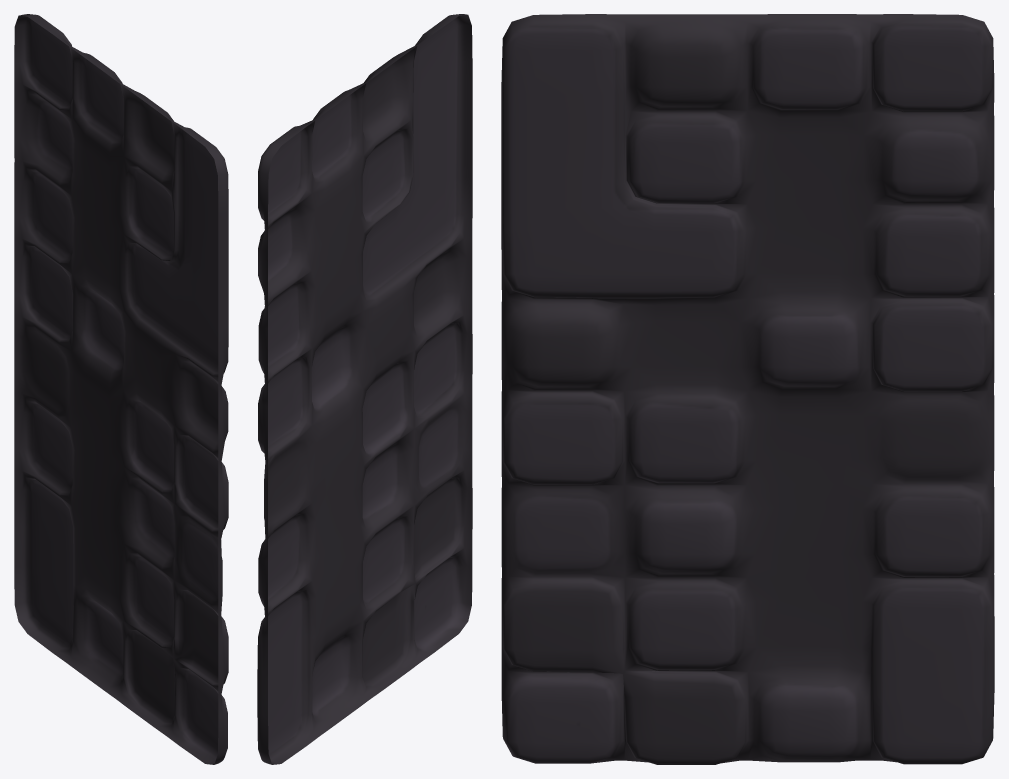
Rendered from Pumpkin_wall_2.fbx.
3 views of the same model, side by side, from view 1: azimuth 30°, elevation 25°; view 2: azimuth 150°, elevation 25°; view 3: azimuth 270°, elevation 25° (orthographic). The views are drawn at different scales.
Visible parts, largest first — view 1: Plane.003; view 2: Plane.003; view 3: Plane.003.
Boxes of the visible parts, x1,y1,x2,y2 form: Plane.003: (14, 14, 228, 764); Plane.003: (257, 14, 472, 764); Plane.003: (501, 14, 994, 764).
Bounding box in the file's own units: 596 × 996 × 34.56.
